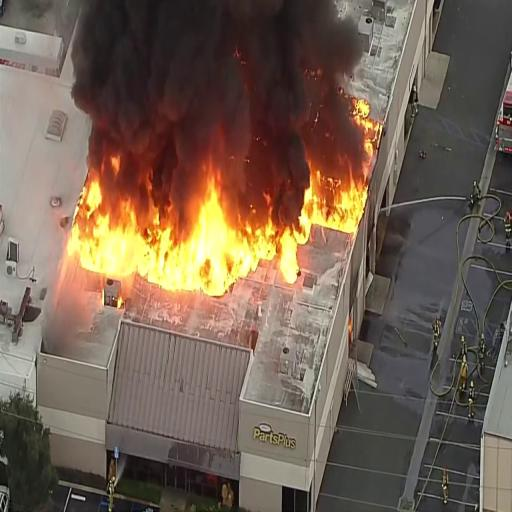fire: (78, 170, 157, 286), (218, 206, 317, 292), (160, 193, 238, 297), (297, 171, 369, 250)
smoke: (92, 3, 327, 114)
